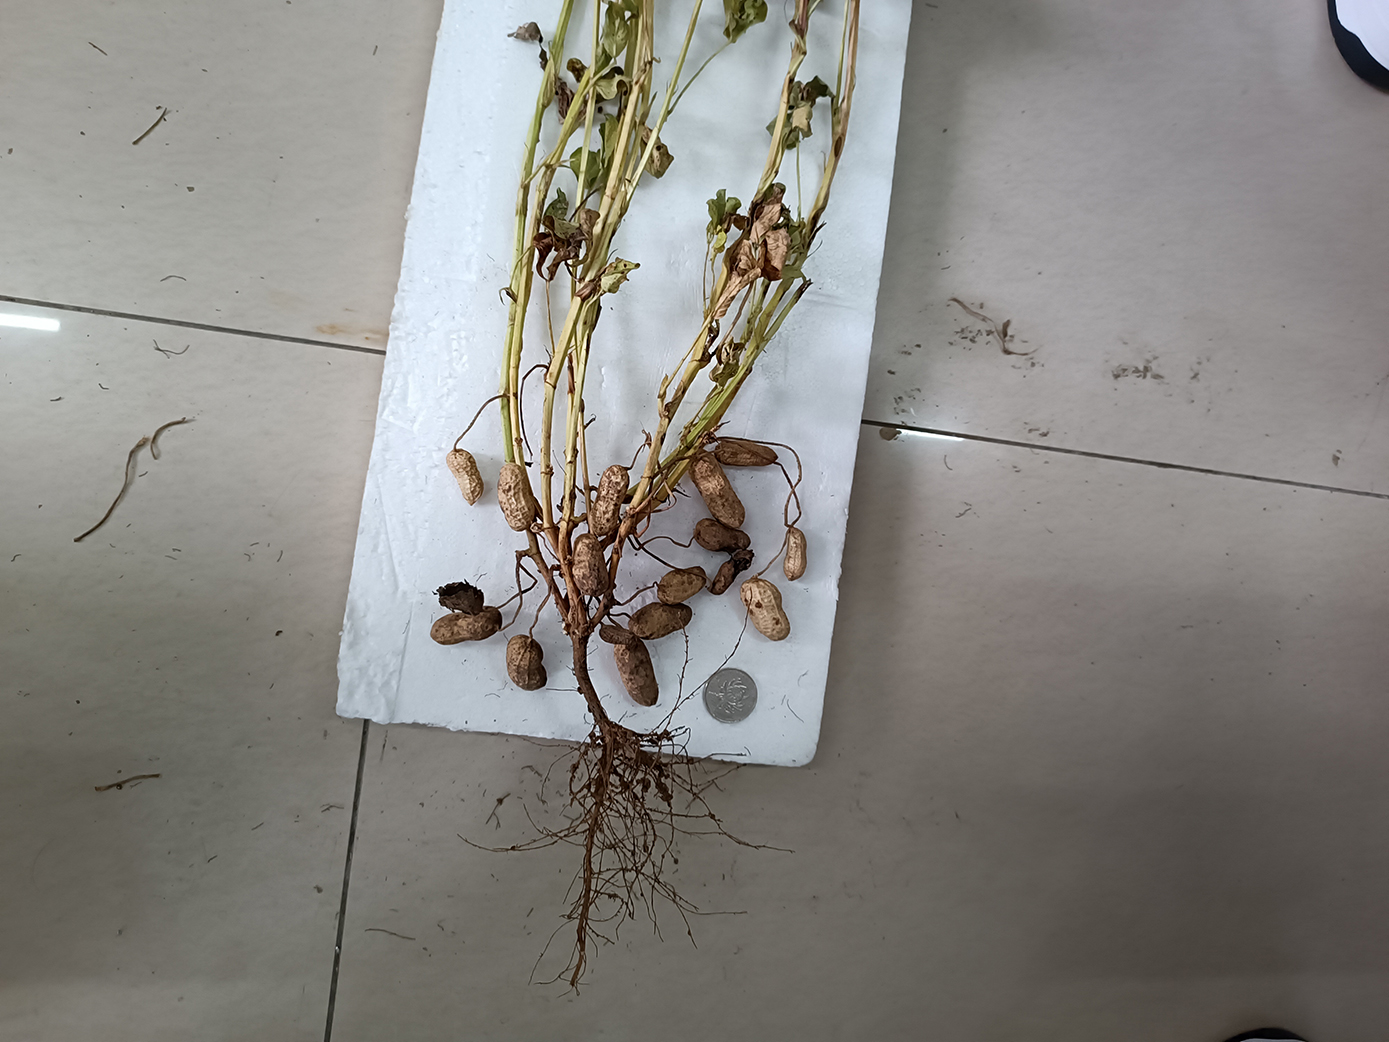h: (688, 449, 746, 528), (741, 578, 791, 641), (497, 462, 535, 531), (506, 634, 548, 691), (571, 533, 609, 597), (445, 449, 484, 507), (658, 566, 706, 606), (783, 526, 807, 581)
l: (587, 464, 628, 536), (615, 639, 659, 707), (429, 605, 502, 645), (627, 602, 693, 641), (709, 549, 755, 595), (431, 579, 484, 616), (714, 438, 779, 466), (694, 519, 751, 551), (599, 625, 633, 644)
